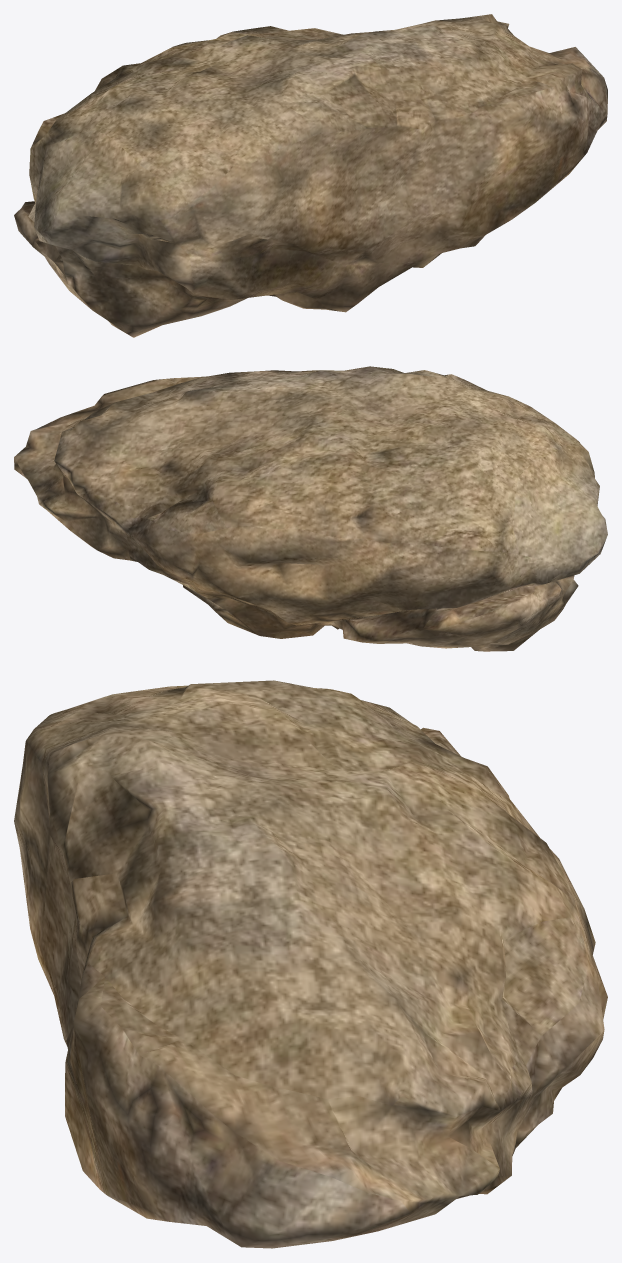
File: boulder_05.glb
3 renders of one model, top to bottom at view 1: azimuth 30°, elevation 25°; view 2: azimuth 150°, elevation 25°; view 3: azimuth 270°, elevation 25°, orthographic. The views are drawn at different scales.
Visible parts, largest first — view 1: namaqualand_boulder_05; view 2: namaqualand_boulder_05; view 3: namaqualand_boulder_05.
Part boxes in pixels (<box>): namaqualand_boulder_05: <box>14,14,607,337</box>; namaqualand_boulder_05: <box>14,366,607,651</box>; namaqualand_boulder_05: <box>14,680,607,1248</box>.
Size of the model in its own units: 1.36 by 0.5338 by 0.7462.
1 material, 1 textured.
